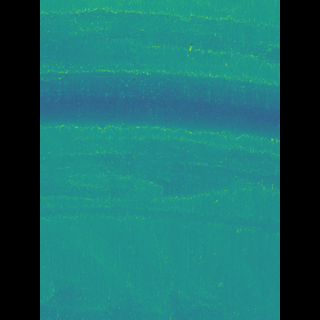Loch: (68, 69, 249, 139), (68, 7, 250, 59)
